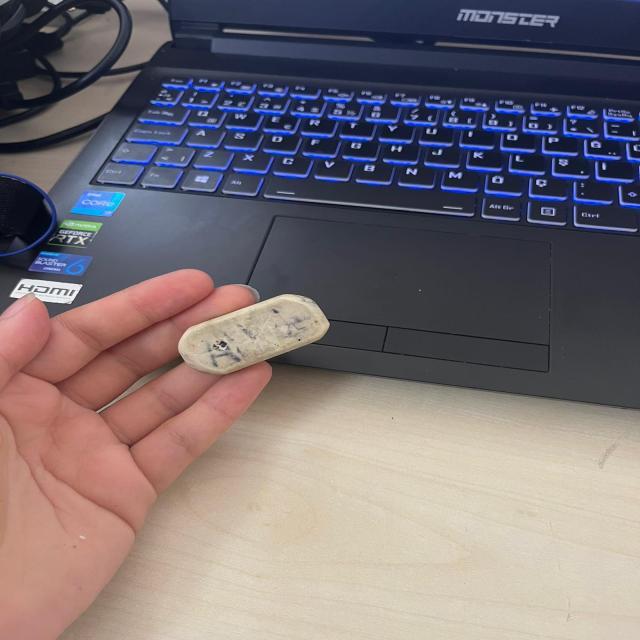eraser: (173, 287, 337, 377)
